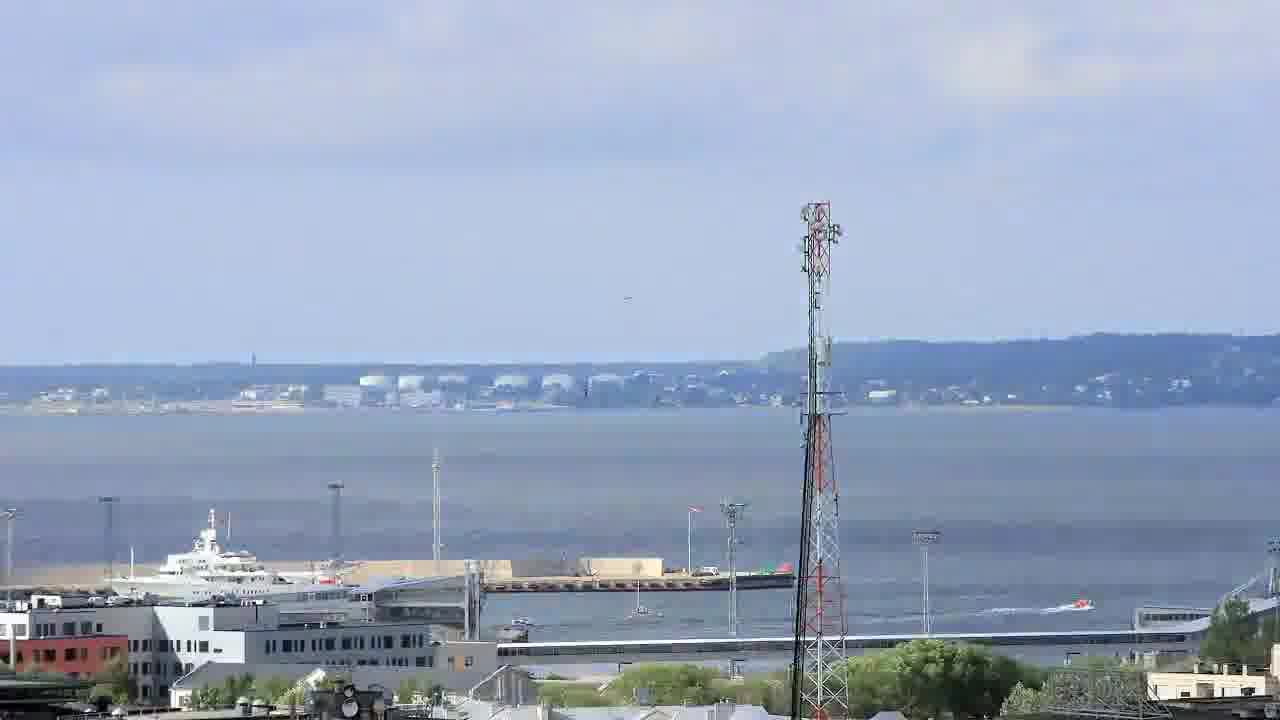type-0: (1054, 577, 1107, 628), (615, 571, 658, 621), (498, 592, 549, 631)
type-3: (72, 492, 370, 608)
